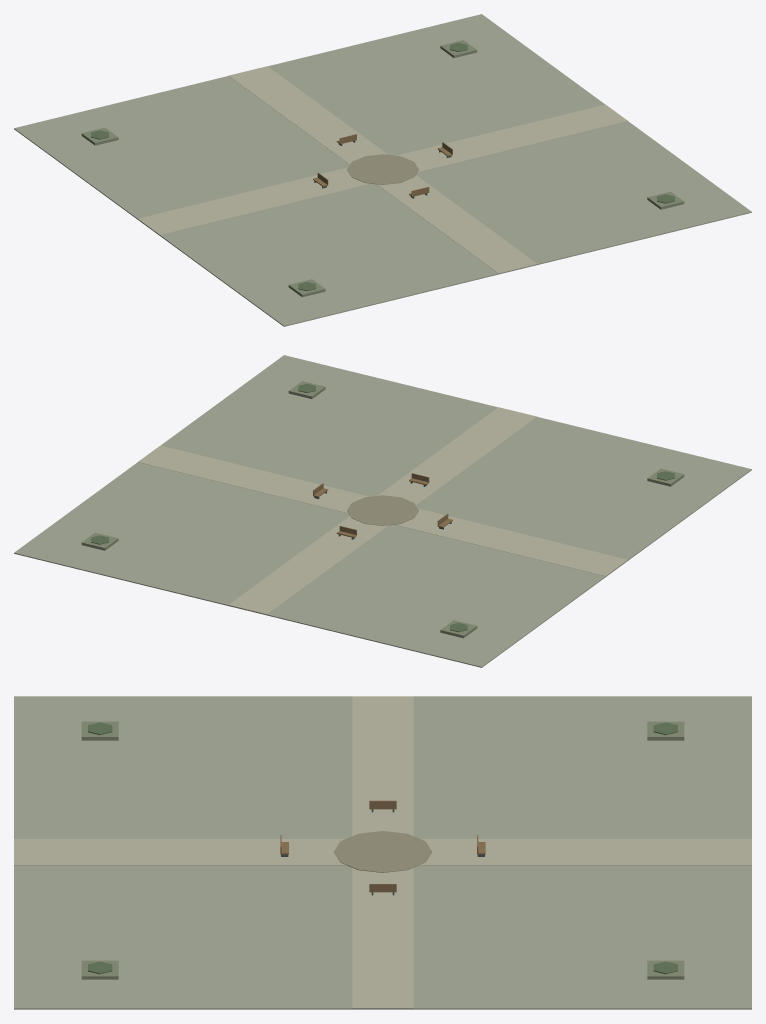
The model's file is camp-plaza.glb.
3 views of the same model, one above another, from view 1: azimuth 30°, elevation 25°; view 2: azimuth 150°, elevation 25°; view 3: azimuth 270°, elevation 25° (orthographic). The views are drawn at different scales.
Parts seen in each view (by area): view 1: camp-plaza; view 2: camp-plaza; view 3: camp-plaza.
Part boxes in pixels (bbox=[...]): camp-plaza: bbox=[14, 14, 751, 326]; camp-plaza: bbox=[14, 355, 751, 667]; camp-plaza: bbox=[14, 696, 751, 1009].
Bounding box in the file's own units: 60 × 1.14 × 60.
